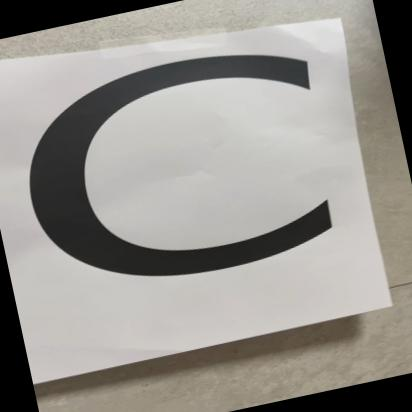seat: (0, 0, 390, 379)
